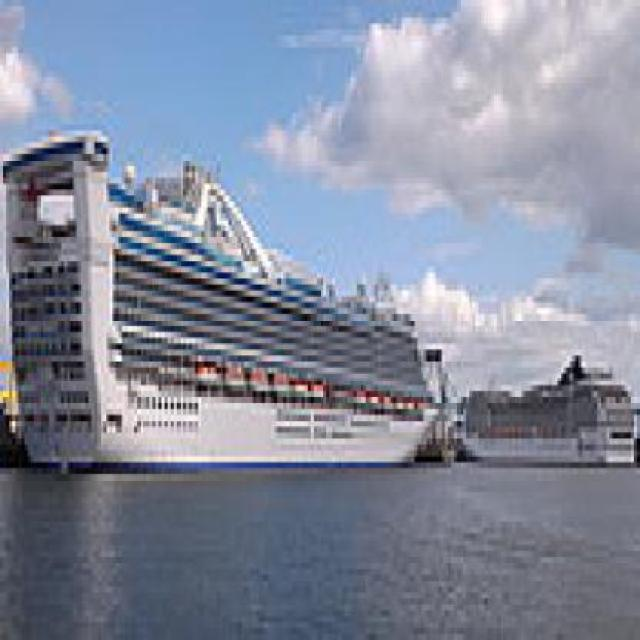cruise: (1, 107, 455, 493)
